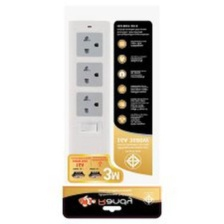book: (60, 4, 162, 219)
three_eye_plug: (64, 18, 112, 163)
